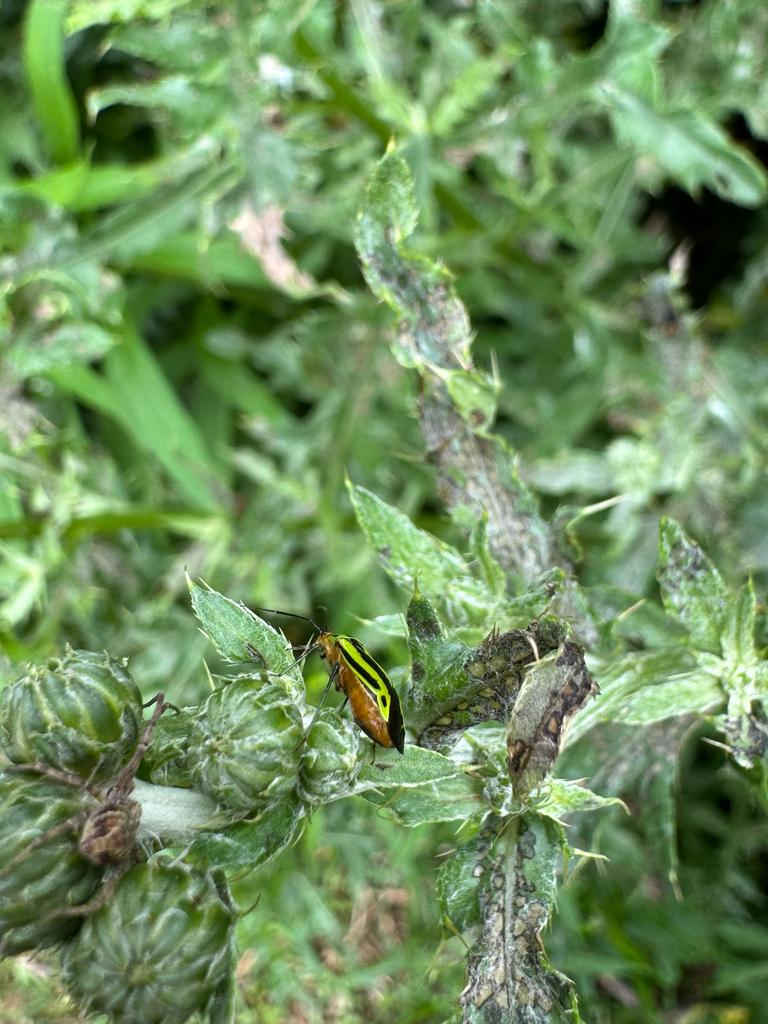plant_bugs: (236, 567, 433, 797)
